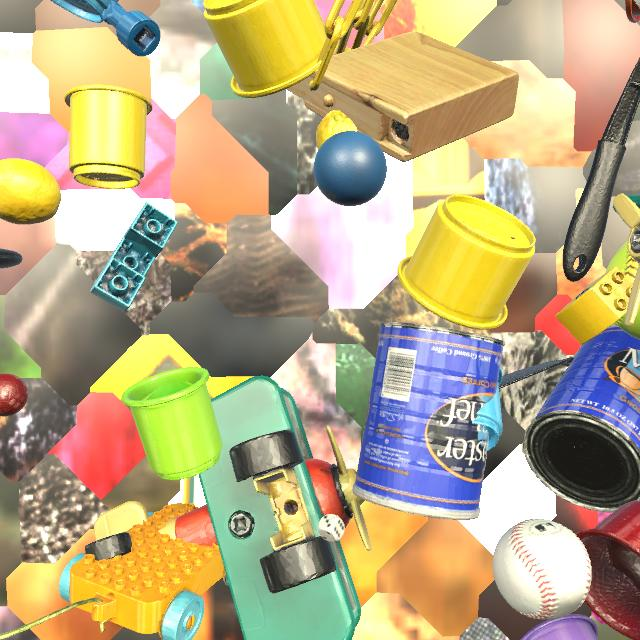ycb_002_master_chef_can: (352, 322, 505, 520), (523, 323, 640, 512)
ycb_014_lemon: (0, 158, 61, 225), (316, 110, 358, 150)
